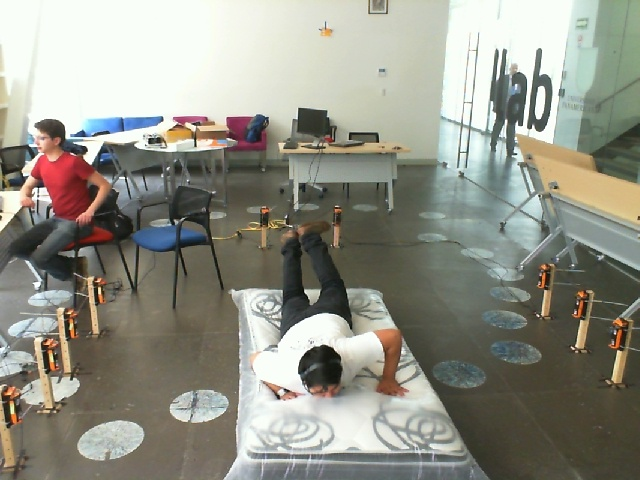fall: (245, 213, 409, 406)
not_fallen: (0, 111, 115, 296)
